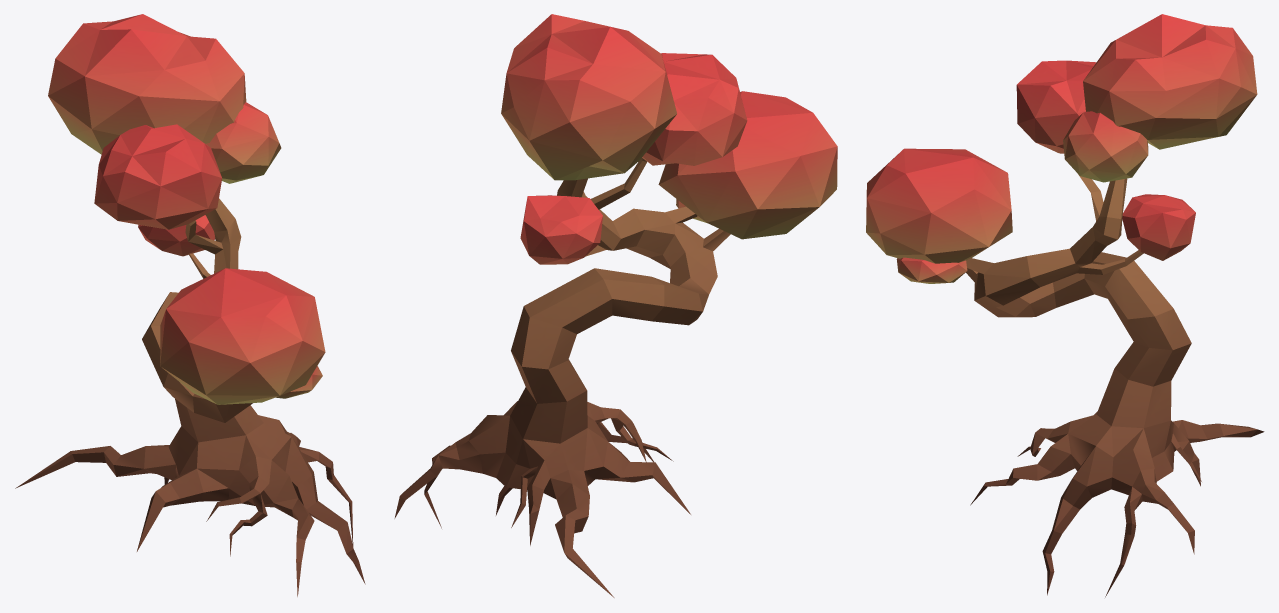
Rendered from ZLP_Plant_D_8.FBX.
3 views of the same model, side by side, from view 1: azimuth 30°, elevation 25°; view 2: azimuth 150°, elevation 25°; view 3: azimuth 270°, elevation 25° (orthographic). The views are drawn at different scales.
Parts seen in each view (by area): view 1: ZLP_Plant_D_8; view 2: ZLP_Plant_D_8; view 3: ZLP_Plant_D_8.
Part boxes in pixels (left/top/right/bottom): ZLP_Plant_D_8: left=15, top=14, right=365, bottom=596; ZLP_Plant_D_8: left=394, top=14, right=837, bottom=597; ZLP_Plant_D_8: left=866, top=14, right=1264, bottom=597.
Size of the model in its own units: 335 by 624 by 447.
